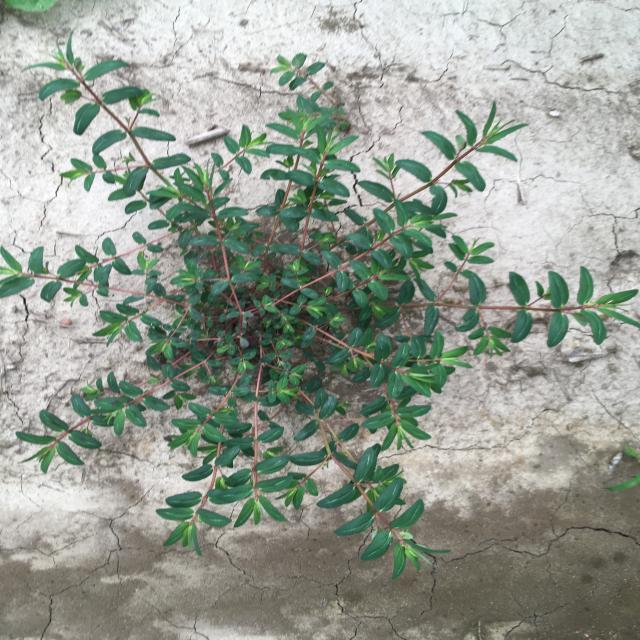SpottedSpurge: (1, 30, 639, 580)
